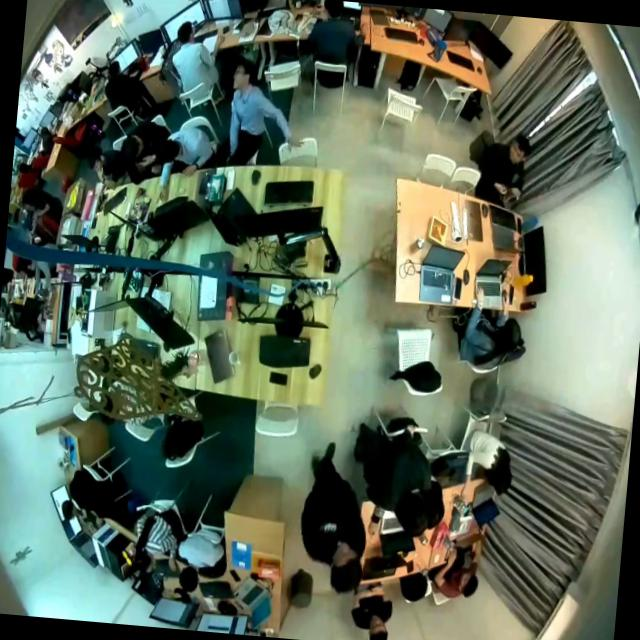employee_tag: (323, 521, 336, 532)
